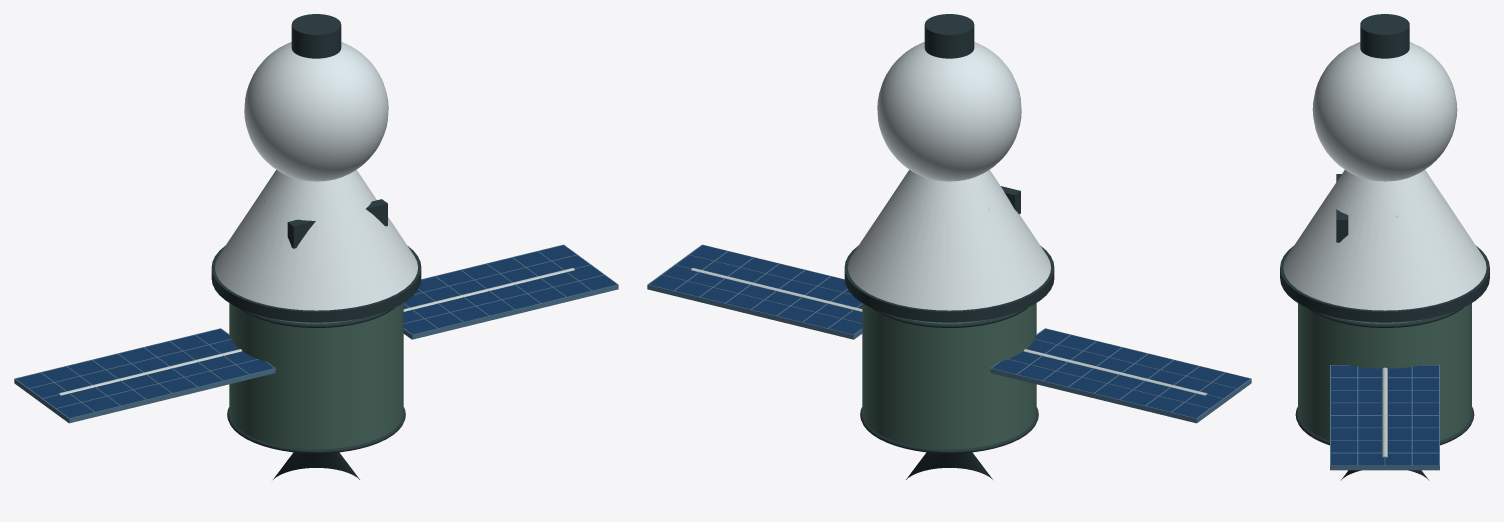
File: shenzhou.glb
3 renders of one model, left to right at view 1: azimuth 30°, elevation 25°; view 2: azimuth 150°, elevation 25°; view 3: azimuth 270°, elevation 25°, orthographic.
Parts seen in each view (by area): view 1: solar, service, body, docking, heatshield, propulsion, crew; view 2: solar, service, body, docking, heatshield, propulsion; view 3: body, docking, service, solar, heatshield, crew.
Part boxes in pixels (box(x1,y1,x2,y2)): solar: box(14, 244, 618, 423); service: box(227, 303, 405, 453); body: box(215, 170, 417, 310); docking: box(244, 14, 388, 181); heatshield: box(211, 246, 421, 322); propulsion: box(273, 452, 359, 479); crew: box(264, 199, 387, 248); solar: box(647, 244, 1251, 423); service: box(860, 303, 1038, 453); body: box(848, 170, 1050, 310); docking: box(877, 14, 1021, 181); heatshield: box(844, 246, 1054, 322); propulsion: box(906, 452, 992, 479); body: box(1283, 170, 1486, 310); docking: box(1312, 14, 1457, 181); service: box(1295, 303, 1474, 445); solar: box(1330, 365, 1439, 470); heatshield: box(1280, 246, 1489, 322); crew: box(1336, 174, 1398, 242).
Bounding box in the file's own units: 6.41 × 5.17 × 2.12.
